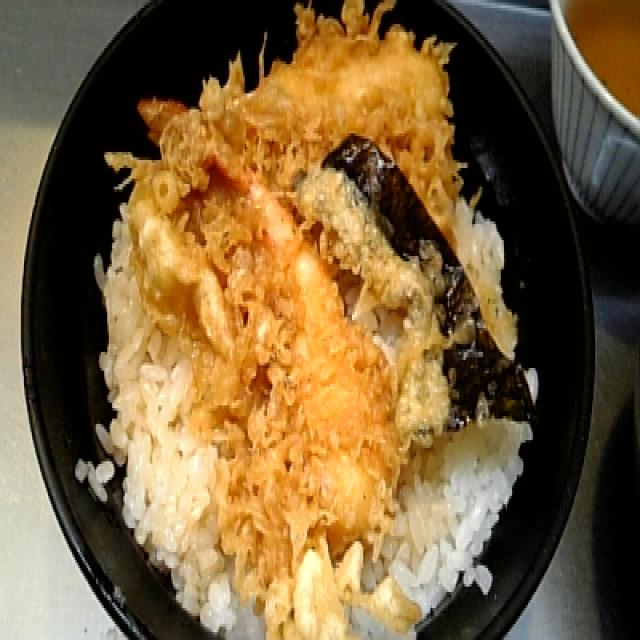熟制海鲜: (18, 0, 598, 640)
